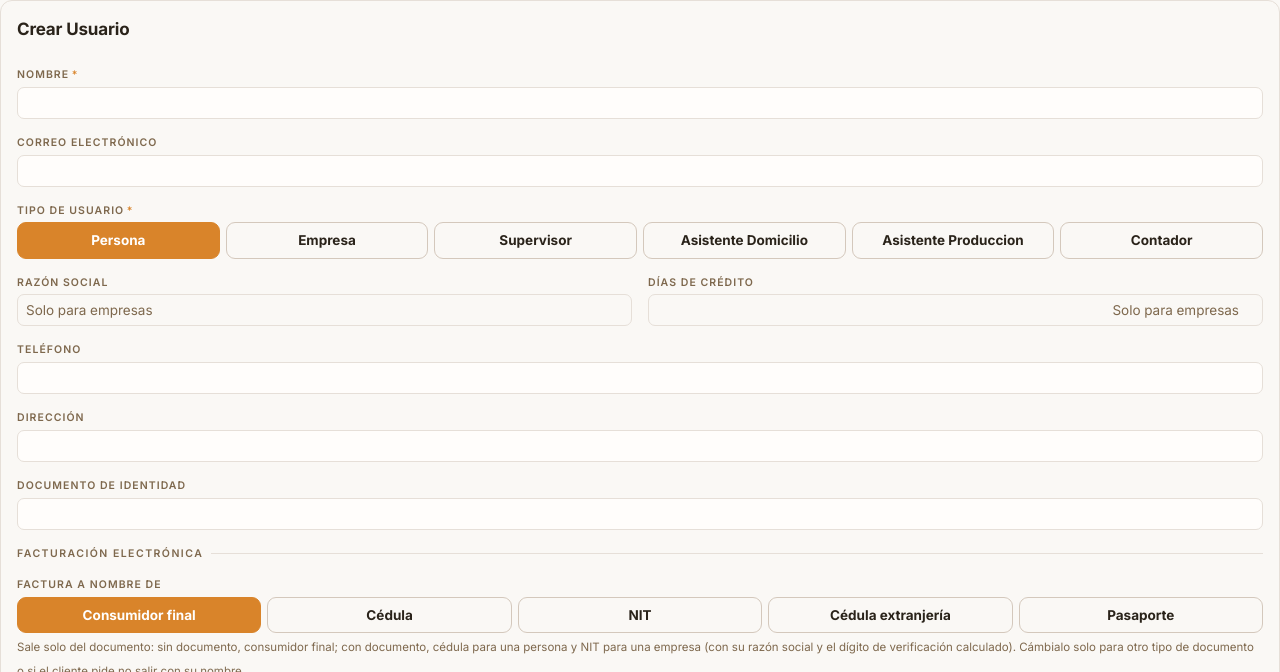
Test: BakeryUserForm e-invoicing › asks for the document when a kind is forced without one
This screenshot has width=1280, height=672.
In the field labelled "Nombre": {"x": 640, "y": 103} [17,87,1263,119], type "Ana Prueba"
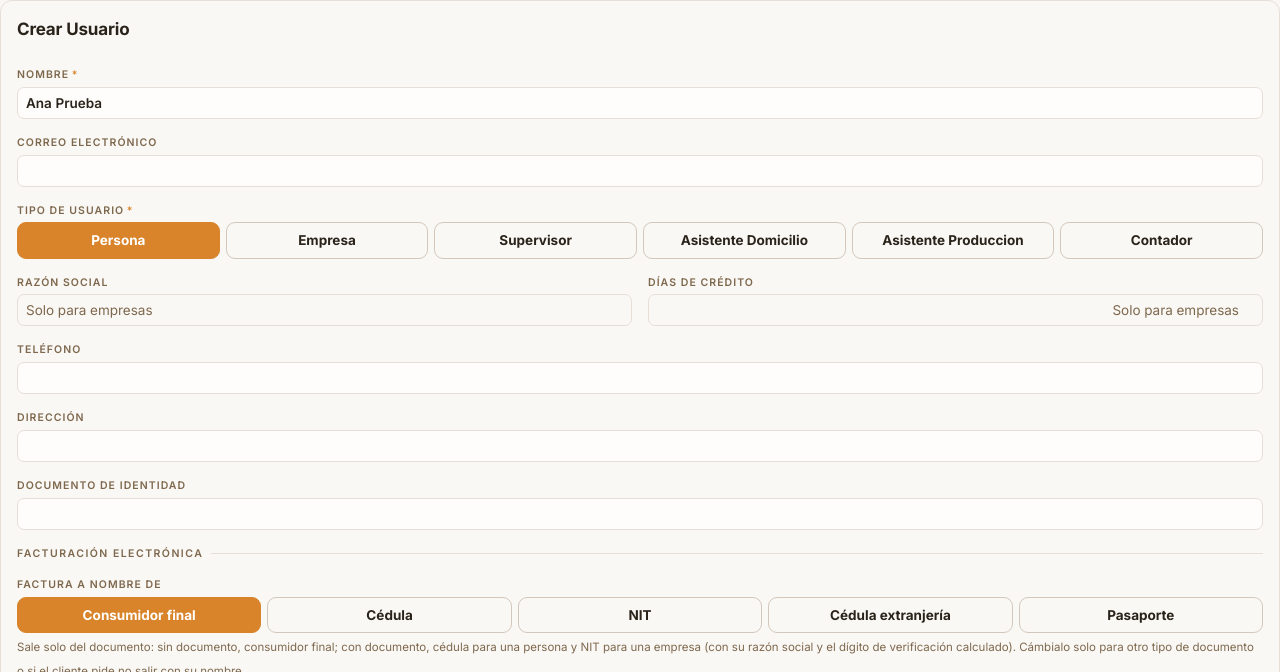
Click the radio button labelled "Cédula": {"x": 390, "y": 615} [267,597,512,633]
(page scrolled)
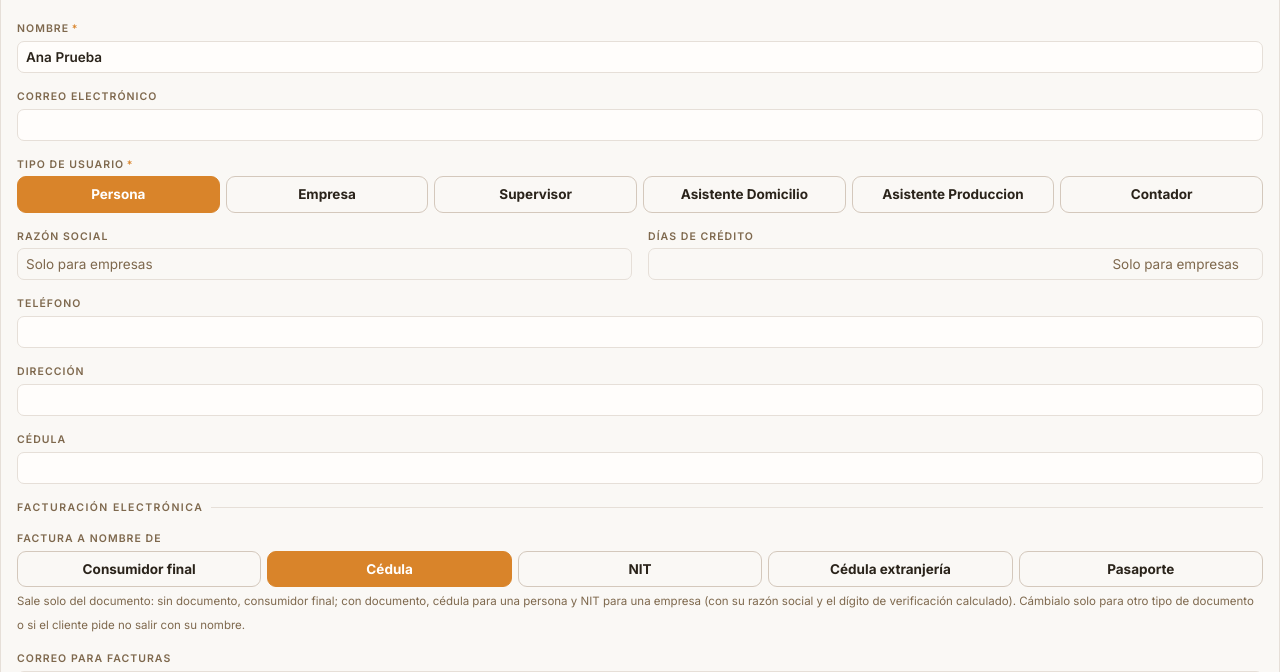
Submit the form
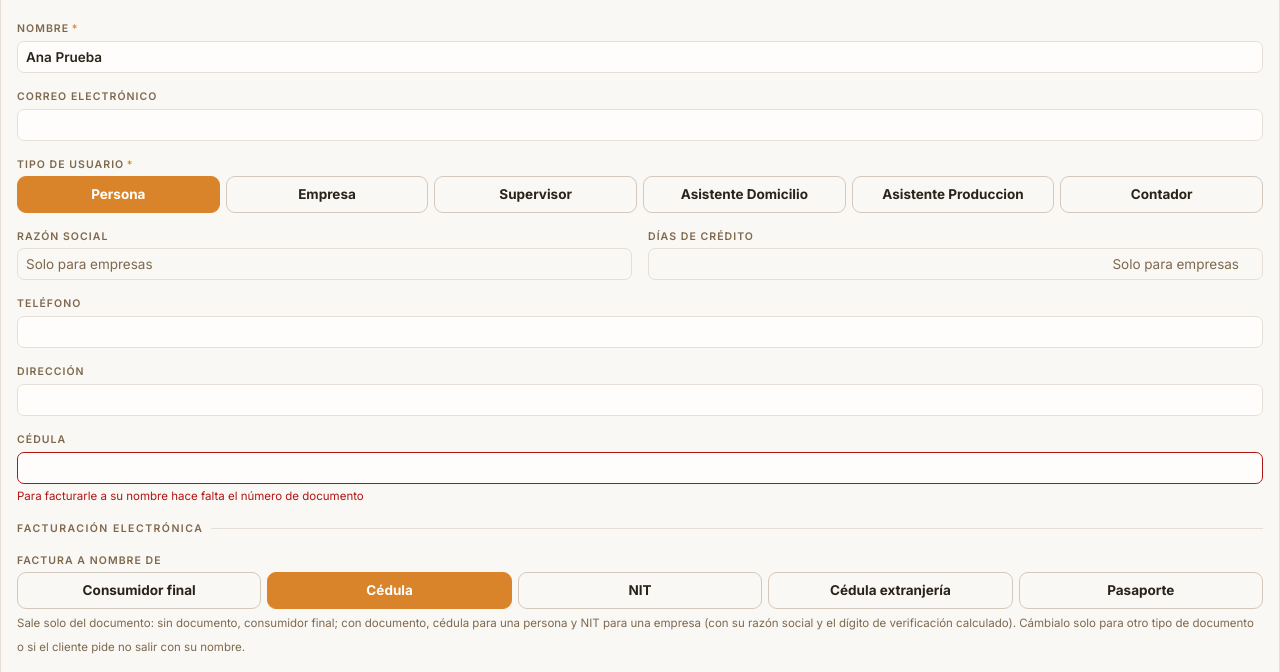
Check: the text "hace falta el número de documento" is shown, box [17,488,364,502]
